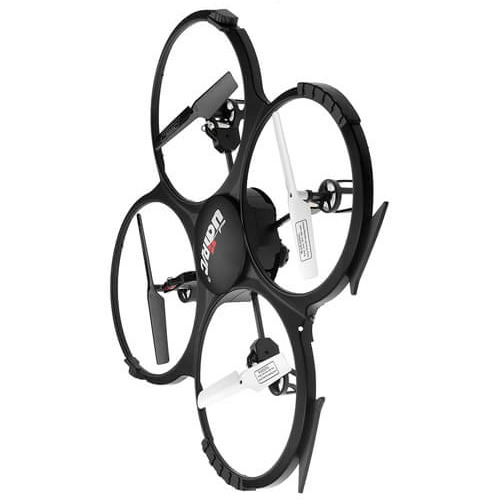drone: (109, 11, 376, 492)
